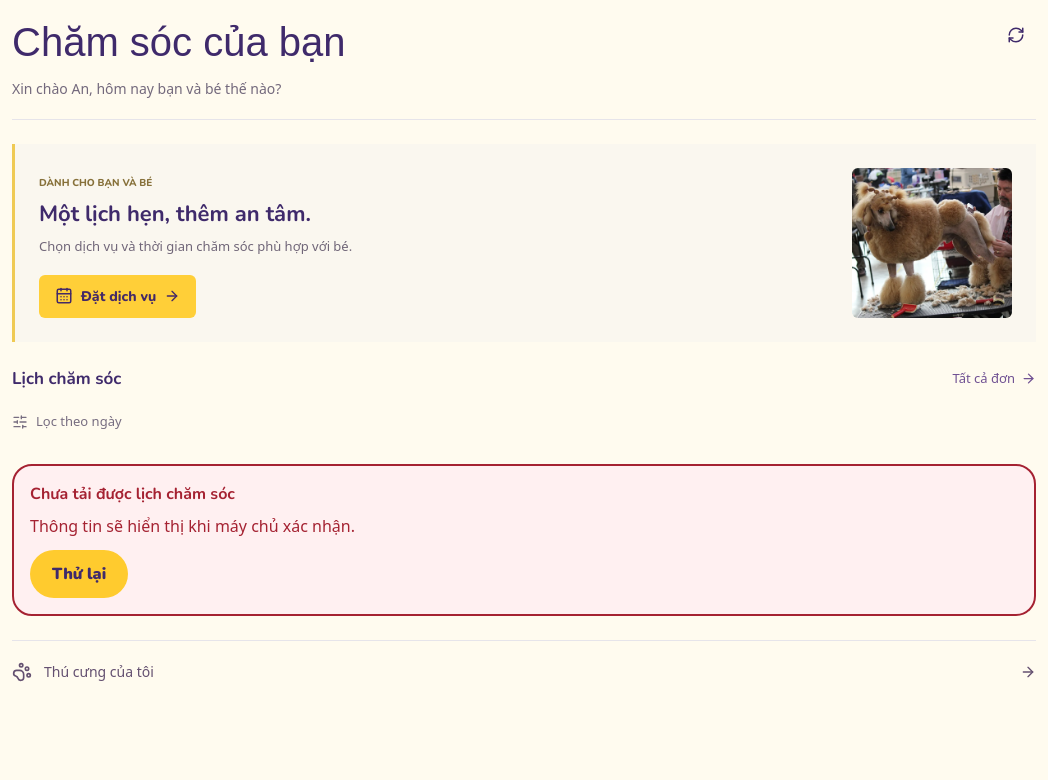
Test: failed read does not pretend there are zero bookings and can retry
Expected: the heading "Chưa tải được lịch chăm sóc" is shown, [30,482,235,504]
Expected: the text "Chưa có lịch chăm sóc" is not shown
Click the button "Thử lại" at (79, 574), box [30,550,128,598]
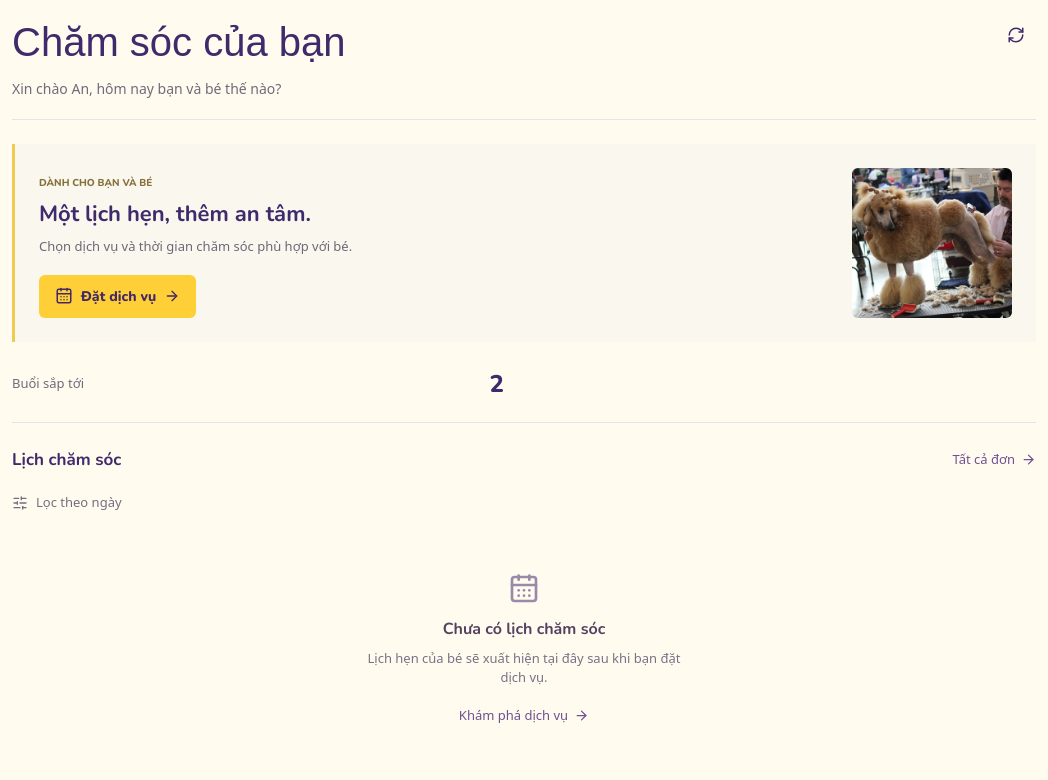
Now the heading "Chưa có lịch chăm sóc" is shown, box [443,616,605,640]
